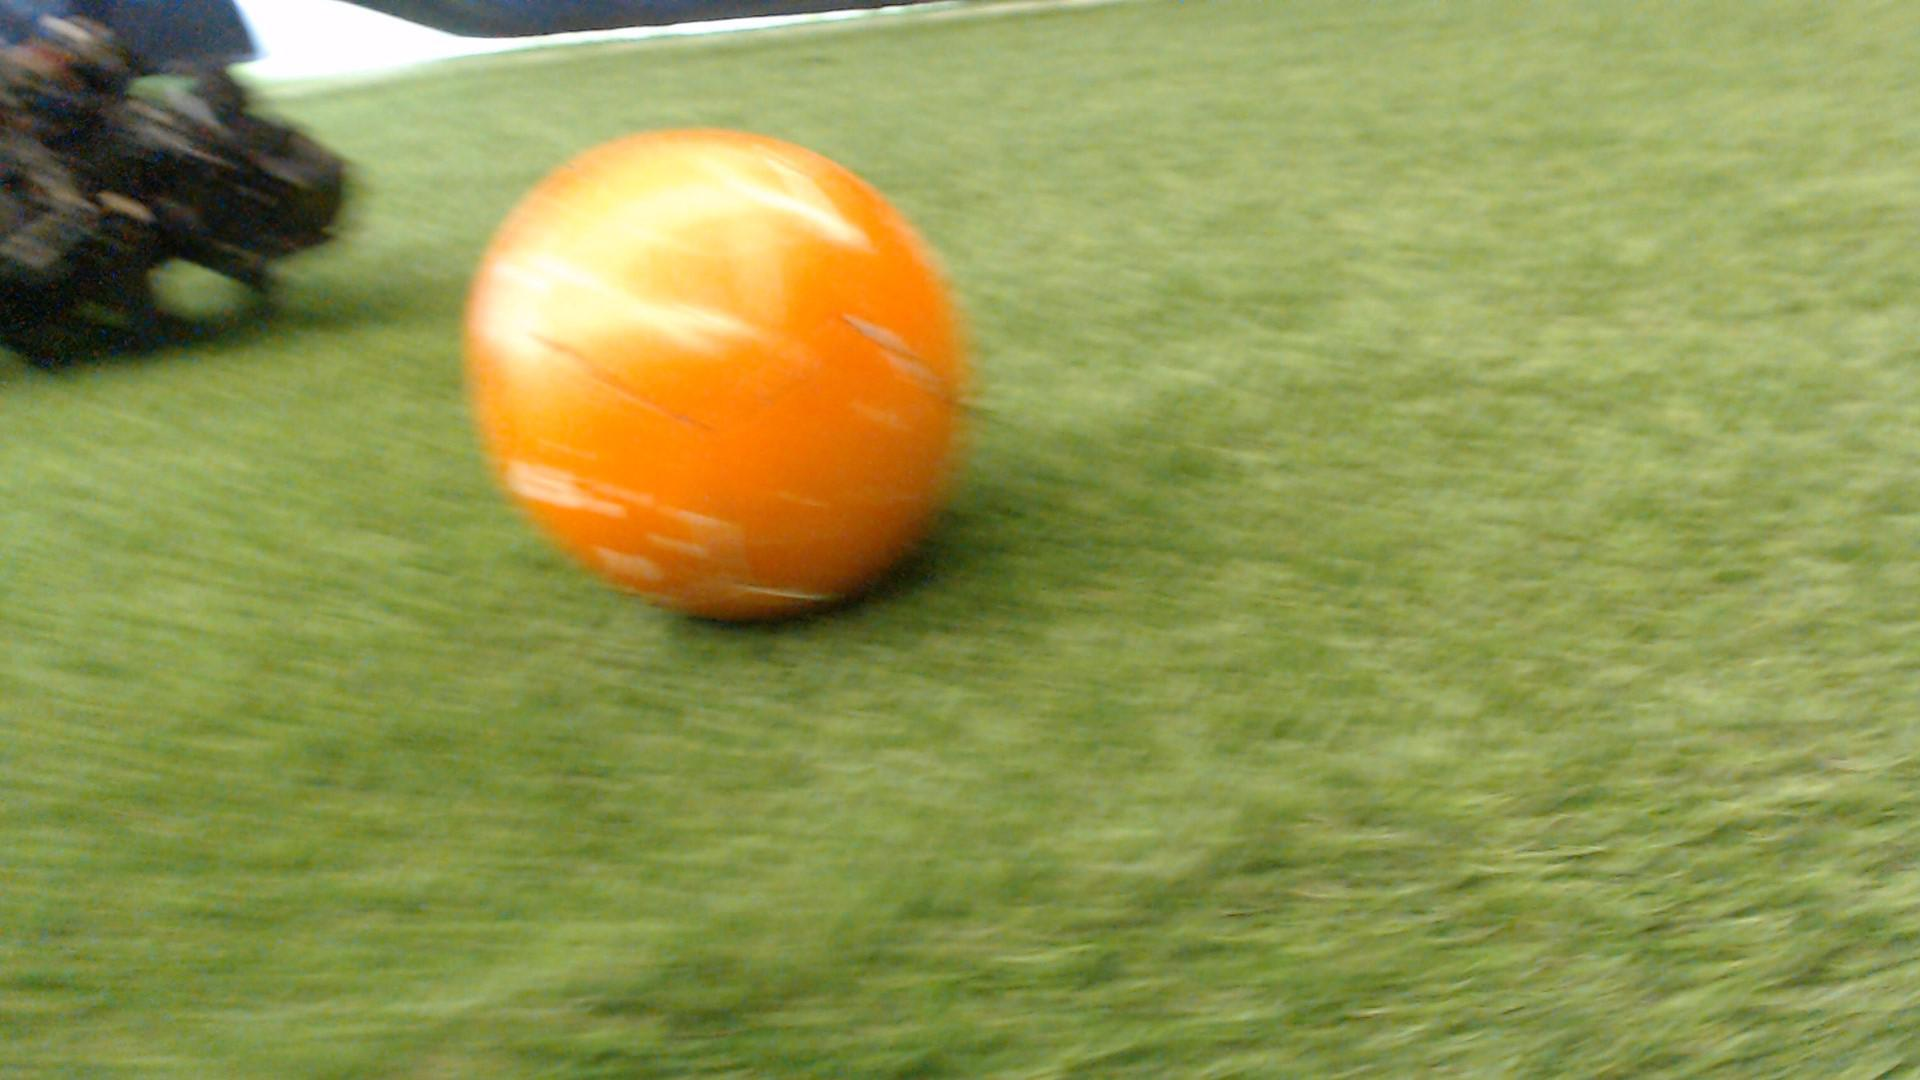bola: (448, 102, 1027, 648)
